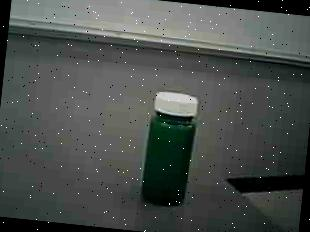Bottle C: (135, 86, 208, 218)
